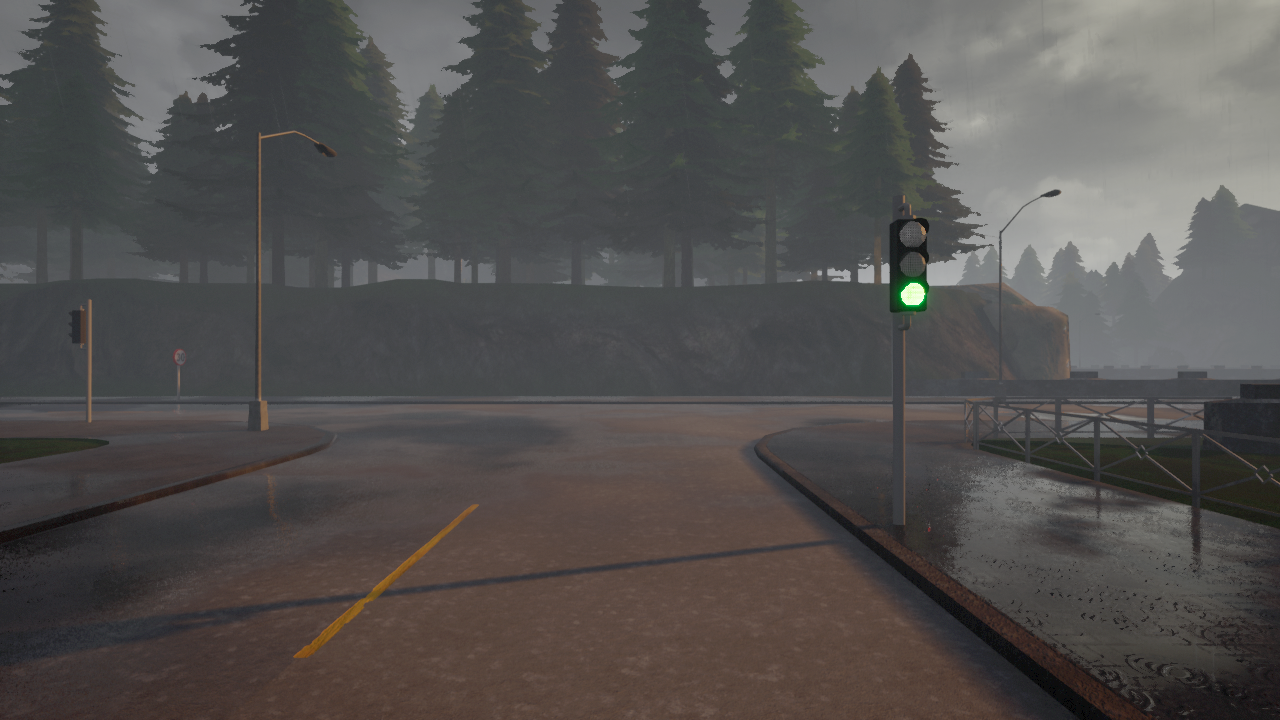green: (888, 212, 927, 312)
